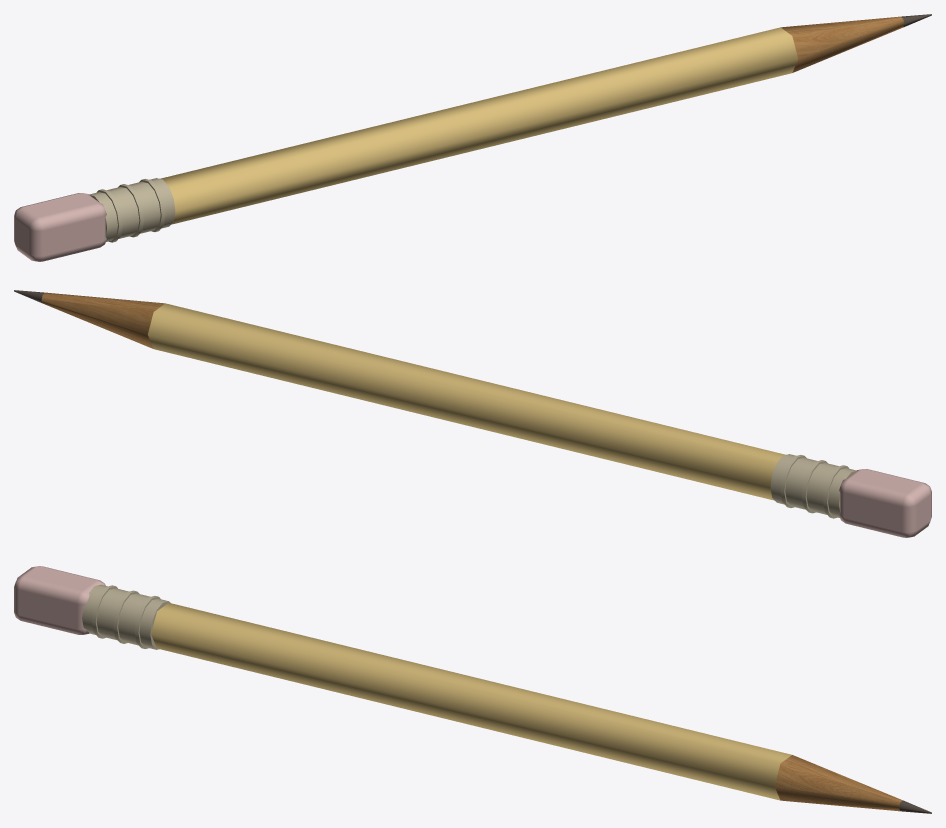
The model's file is product-off.pencil.glb.
The picture shows the model from 3 angles, top to bottom: view 1: azimuth 30°, elevation 25°; view 2: azimuth 150°, elevation 25°; view 3: azimuth 330°, elevation 25°; orthographic projection.
Parts seen in each view (by area): view 1: product-off.pencil; view 2: product-off.pencil; view 3: product-off.pencil.
Part boxes in pixels (x1,y1,x2,y2): product-off.pencil: (14,14,931,261); product-off.pencil: (14,290,931,537); product-off.pencil: (14,566,931,813).
Size of the model in its own units: 0.213 by 0.011 by 0.011.
5 materials, 1 textured.
